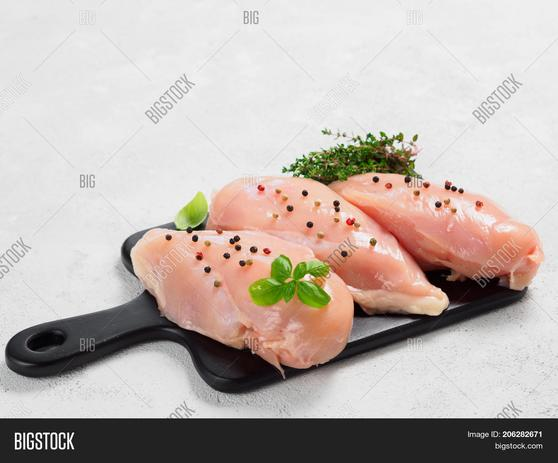chicken_fillet: (120, 215, 360, 366), (221, 172, 445, 322), (338, 172, 544, 291)
